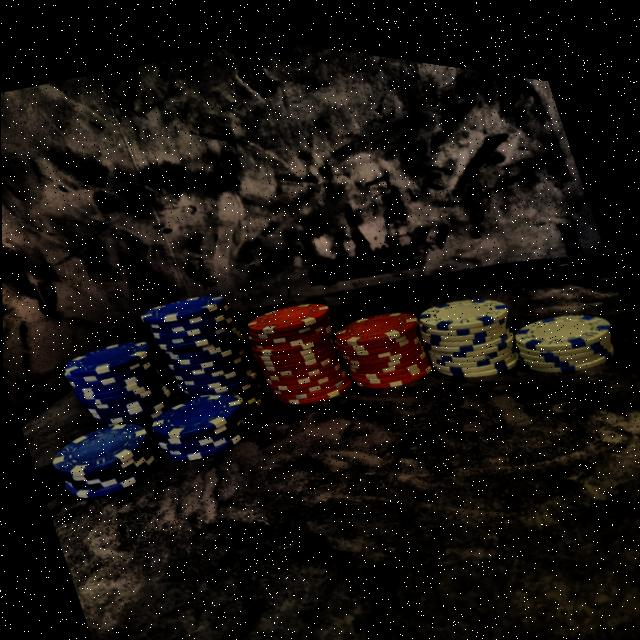Chip: (398, 249, 538, 393), (49, 311, 179, 465), (131, 272, 262, 423), (235, 270, 356, 418), (489, 258, 623, 387), (317, 273, 447, 400), (39, 389, 164, 520), (137, 364, 263, 479)
